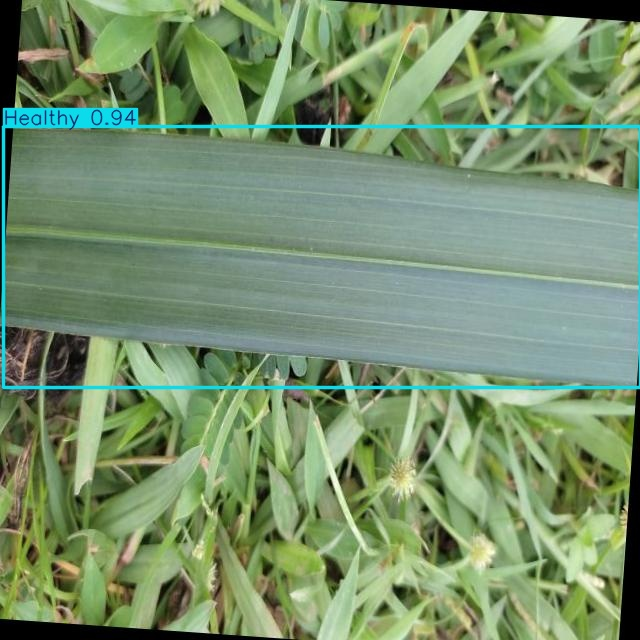Healthy: (3, 126, 640, 388)
